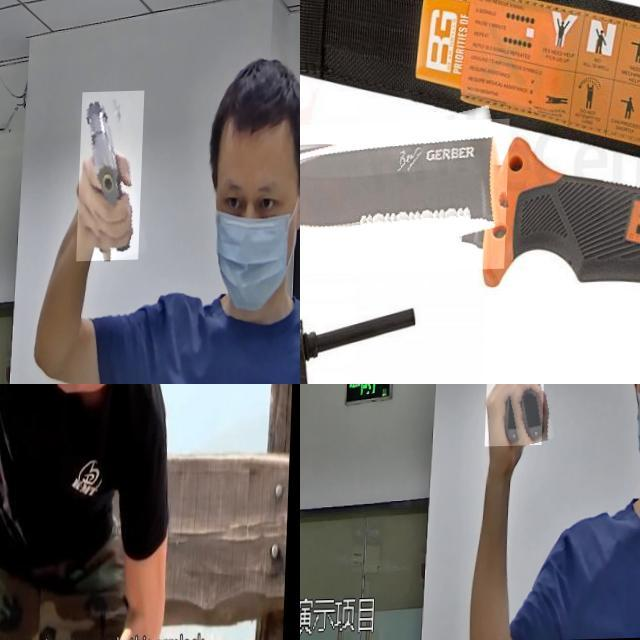-: (300, 120, 511, 276), (0, 384, 39, 460)
gun-knife-thesis - v11 Yolov5 augmented: (80, 92, 146, 264), (487, 384, 551, 489)
